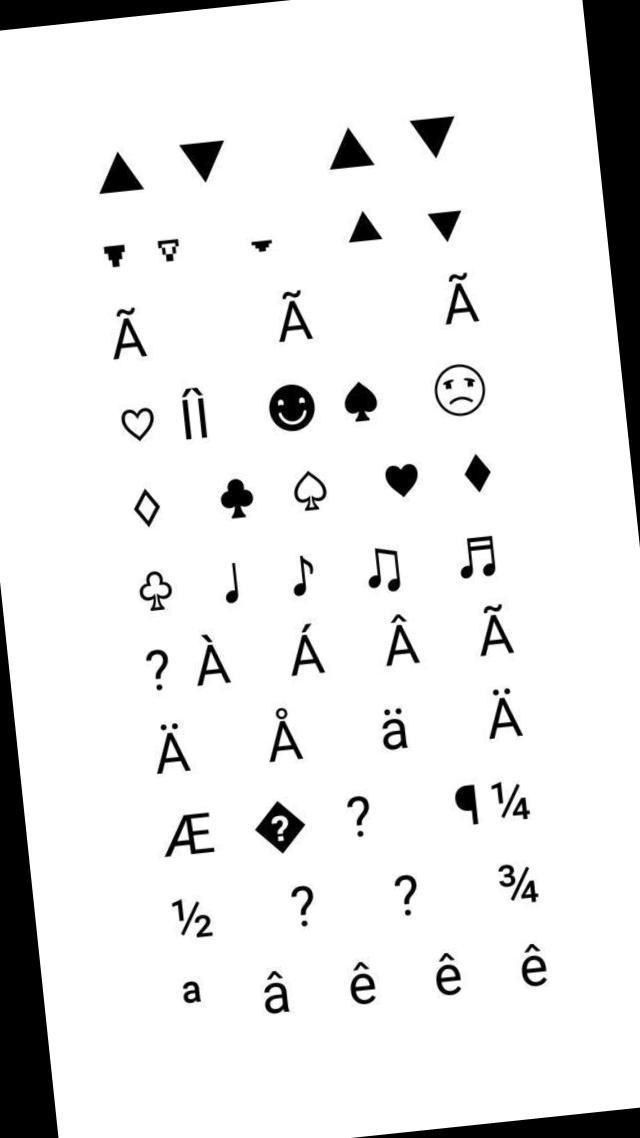ASCII: (254, 377, 326, 440), (424, 260, 486, 333), (97, 297, 159, 369), (426, 354, 491, 422), (153, 802, 224, 864), (317, 119, 383, 182), (264, 275, 318, 351), (480, 852, 544, 914), (471, 683, 530, 749), (276, 614, 332, 682), (87, 144, 151, 203), (469, 597, 522, 666), (164, 887, 223, 948), (182, 625, 232, 696), (248, 795, 308, 854), (372, 608, 424, 676), (485, 766, 539, 830), (246, 961, 298, 1026), (261, 697, 307, 770), (404, 105, 462, 162), (148, 712, 196, 780), (174, 135, 231, 189), (368, 700, 418, 761), (509, 935, 558, 996), (423, 942, 470, 1002), (342, 953, 391, 1010), (214, 556, 262, 614), (340, 203, 390, 256), (215, 472, 261, 529), (417, 198, 469, 248), (453, 530, 503, 582), (116, 484, 164, 538), (363, 541, 409, 597), (443, 776, 484, 838), (340, 374, 380, 436), (288, 464, 333, 518), (454, 448, 500, 499), (278, 548, 320, 602), (110, 397, 156, 445), (134, 566, 176, 617), (382, 452, 424, 501), (93, 230, 130, 276), (152, 230, 186, 269), (241, 231, 277, 258)
